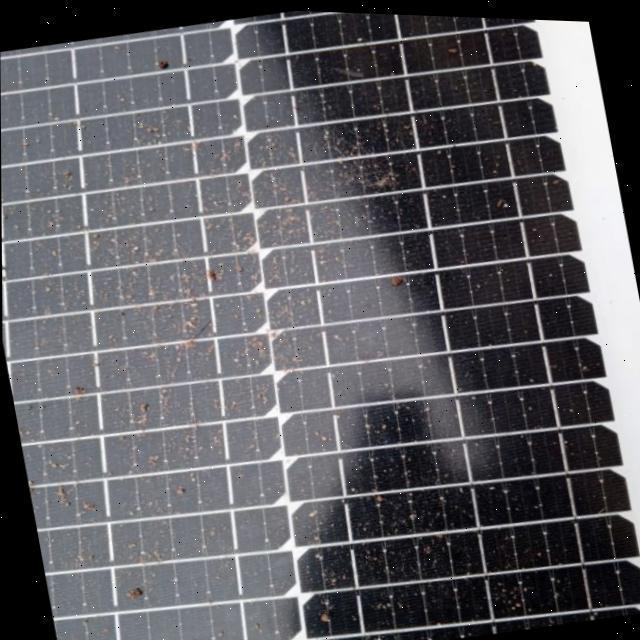Surface Contaminant: (0, 8, 640, 640)
